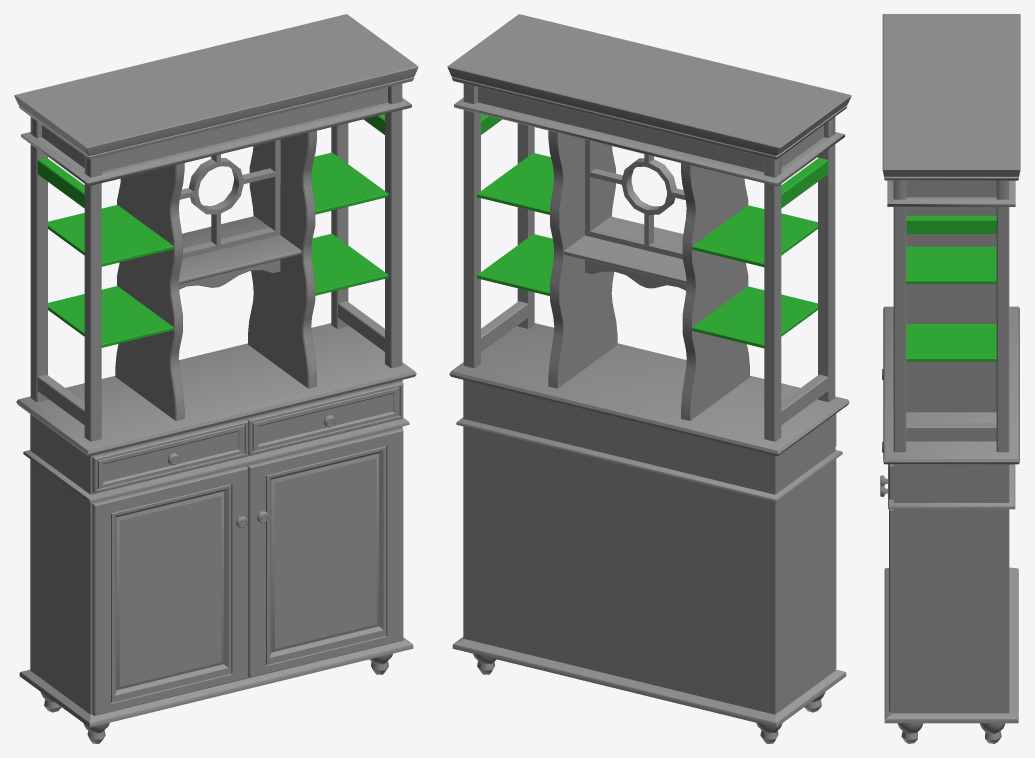
Rendered from DGTZ01.FBX.
3 renders of one model, left to right at view 1: azimuth 30°, elevation 25°; view 2: azimuth 150°, elevation 25°; view 3: azimuth 270°, elevation 25°, orthographic. The views are drawn at different scales.
Parts seen in each view (by area): view 1: DGTZ01; view 2: DGTZ01; view 3: DGTZ01.
Boxes of the visible parts, <box> form: DGTZ01: <box>14,14,418,743</box>; DGTZ01: <box>447,14,851,743</box>; DGTZ01: <box>880,14,1020,743</box>.
Size of the model in its own units: 120 by 45.63 by 210.
